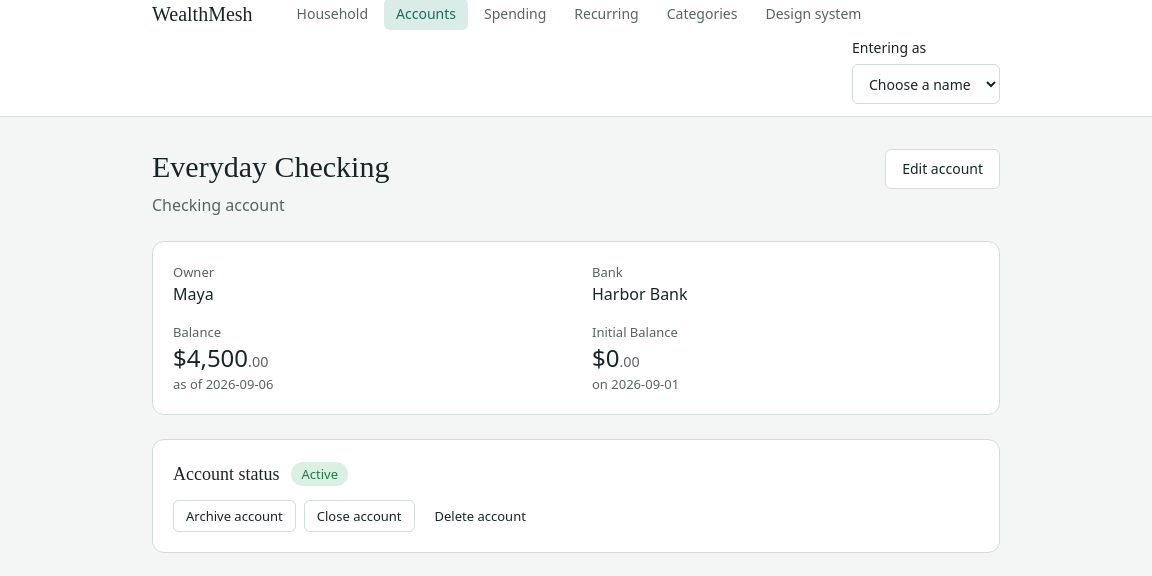
Test: correcting the starting balance › shows what the form refuses without a request
Select "Maya" in the dropdown labelled "Entering as" at (926, 84), box x1=852 y1=64 x2=1000 y2=104
(page scrolled)
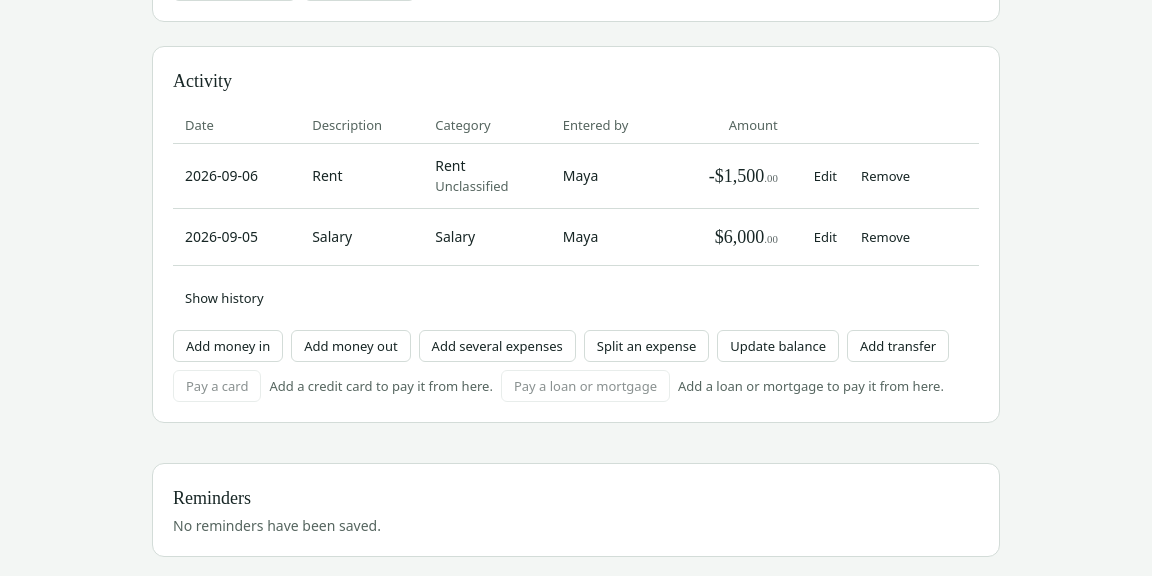
Click the button "Update balance" at (778, 346), box x1=717 y1=330 x2=839 y2=362
(page scrolled)
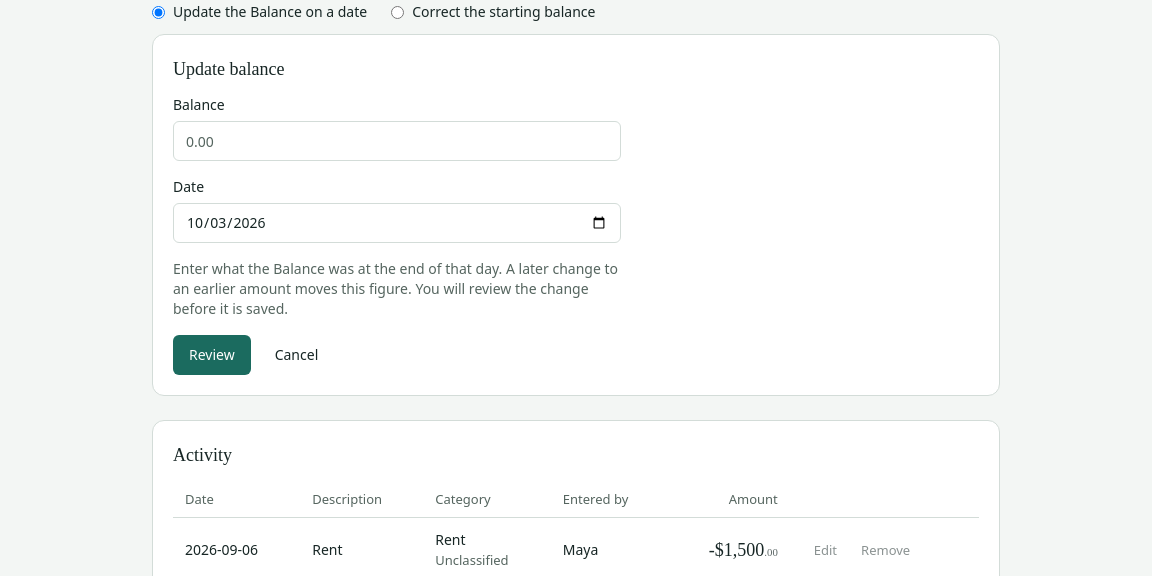
Click the radio button labelled "Correct the starting balance" at (398, 12), box x1=391 y1=6 x2=404 y2=18
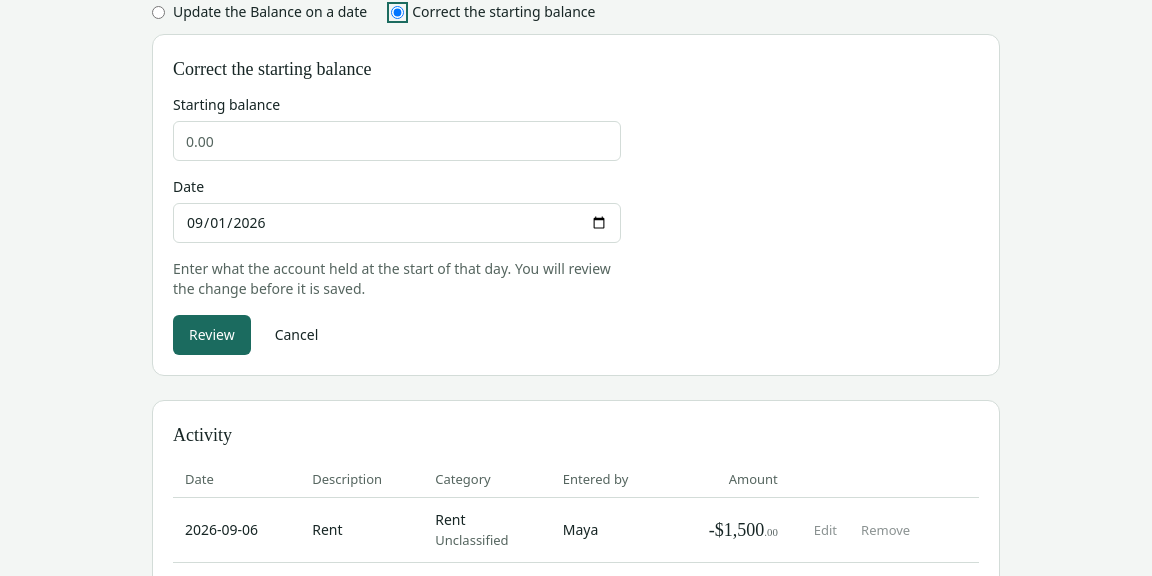
Type "abc" into the field labelled "Starting balance" at (397, 141), box x1=173 y1=121 x2=621 y2=161
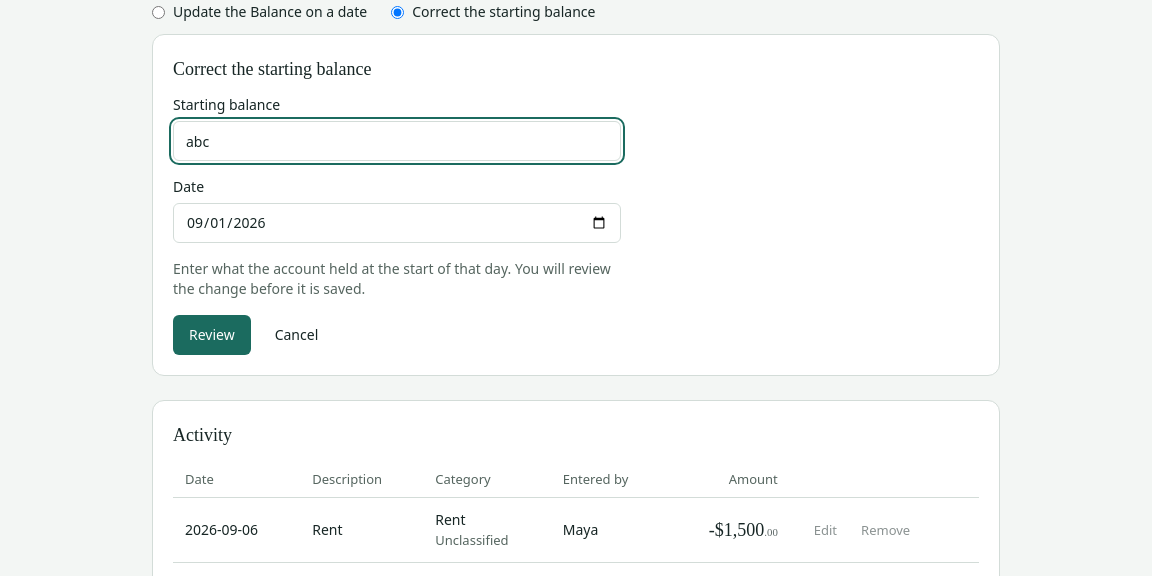
Click the button "Review" at (212, 335), box x1=173 y1=315 x2=251 y2=355
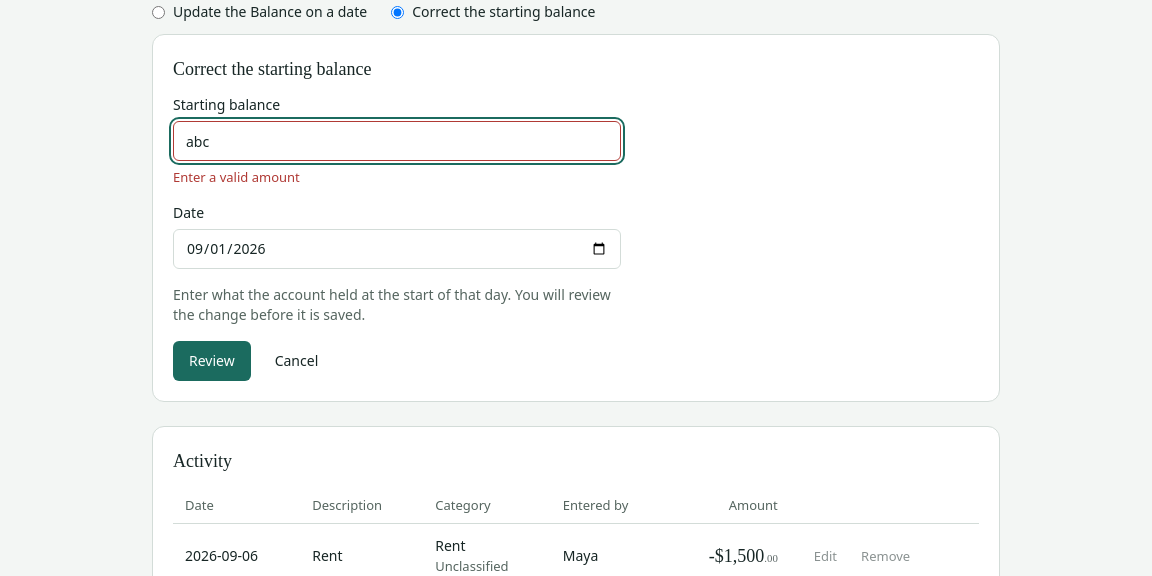
Expected: the text "Enter a valid amount" is shown, x1=173 y1=168 x2=300 y2=186
